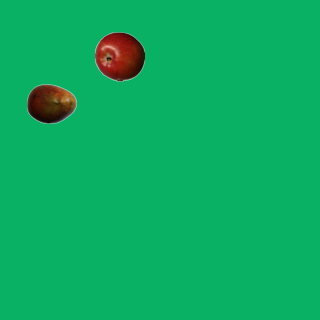Apple Braeburn: (94, 31, 144, 81)
Mango Red: (26, 78, 76, 128)
